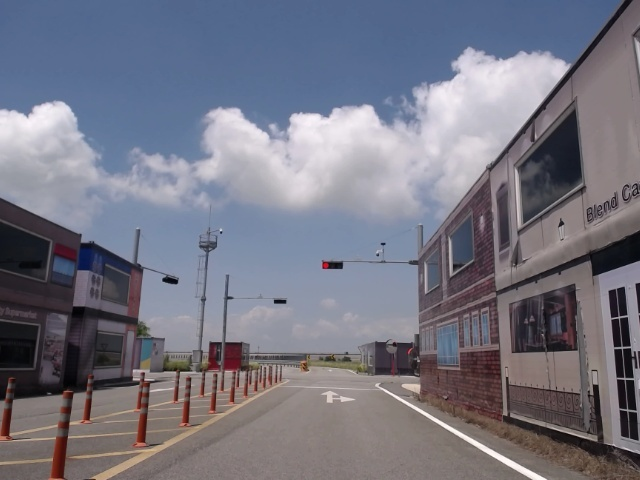red_3: (322, 260, 344, 270)
